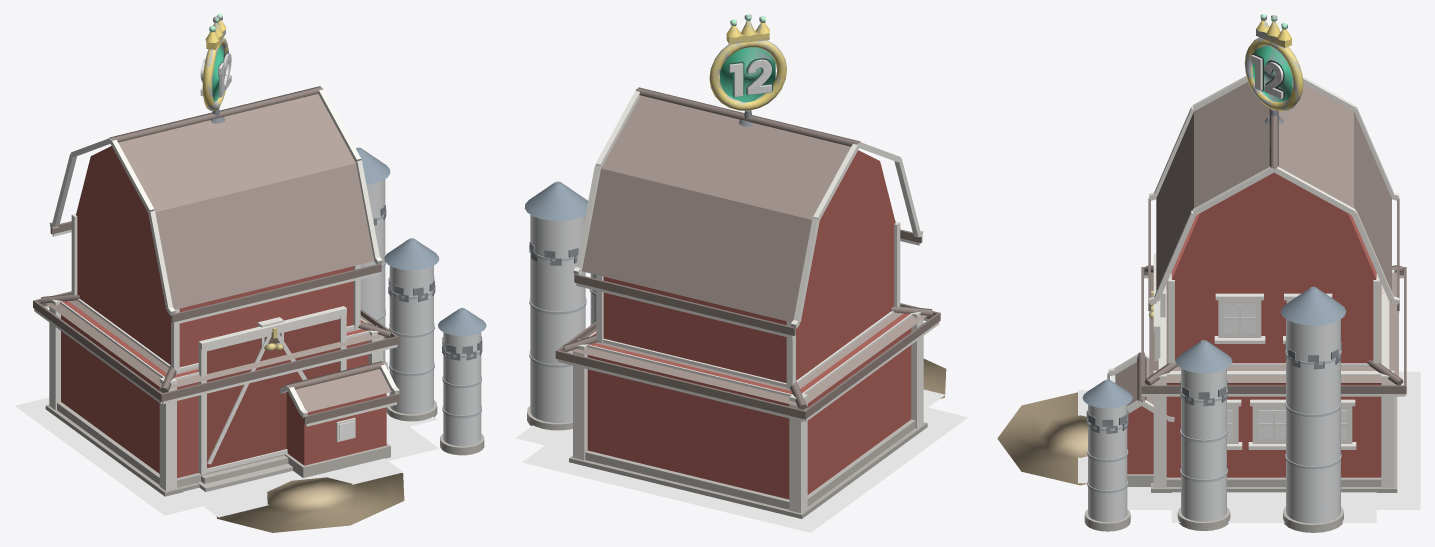
Rendered from barn_12.glb.
The picture shows the model from 3 angles, left to right: view 1: azimuth 30°, elevation 25°; view 2: azimuth 150°, elevation 25°; view 3: azimuth 270°, elevation 25°; orthographic projection. The views are drawn at different scales.
Parts seen in each view (by area): view 1: body2, barn_12, spin_60_0, body; view 2: body2, barn_12, spin_60_0, body; view 3: body2, barn_12, spin_60_0, body.
Part boxes in pixels (left/top/right/bottom): body2: left=33, top=86, right=486, bottom=532; barn_12: left=15, top=392, right=438, bottom=517; spin_60_0: left=200, top=14, right=231, bottom=110; body: left=200, top=16, right=231, bottom=111; body2: left=524, top=87, right=946, bottom=518; barn_12: left=515, top=389, right=968, bottom=532; spin_60_0: left=709, top=14, right=786, bottom=110; body: left=710, top=14, right=786, bottom=108; body2: left=997, top=76, right=1406, bottom=532; barn_12: left=1078, top=371, right=1420, bottom=522; spin_60_0: left=1244, top=14, right=1303, bottom=111; body: left=1245, top=15, right=1301, bottom=110.
Size of the model in its own units: 3.42 by 4.22 by 3.8.
